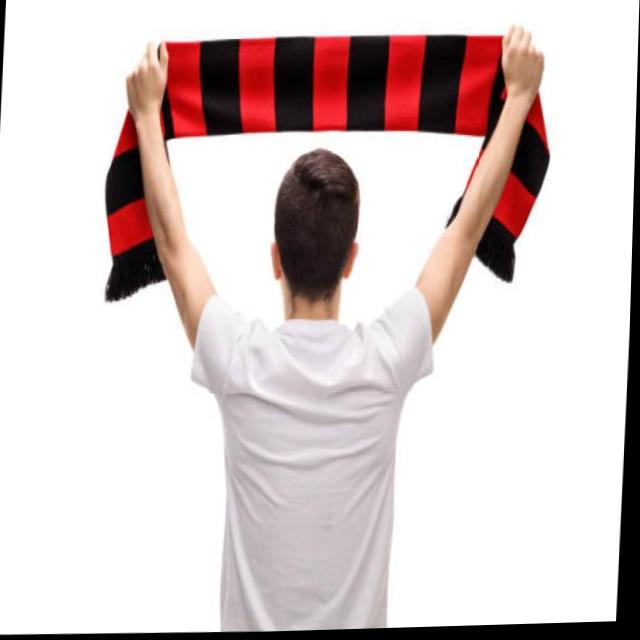no helmet: (259, 144, 378, 356)
